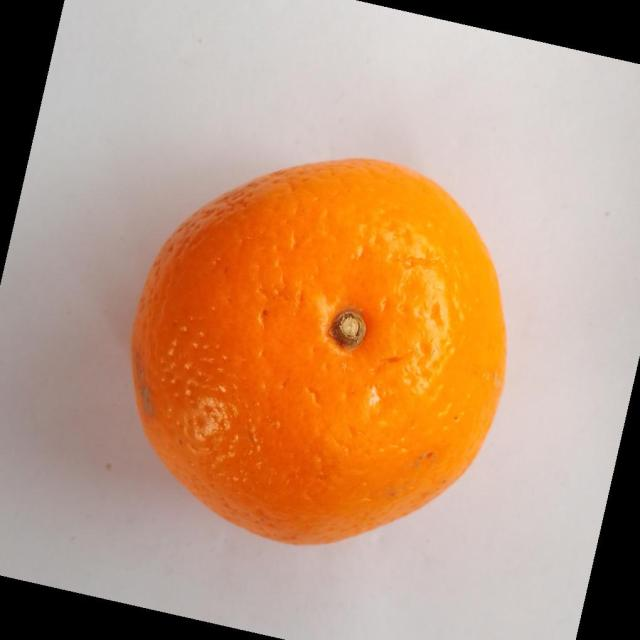fresh orange: (129, 155, 508, 546)
